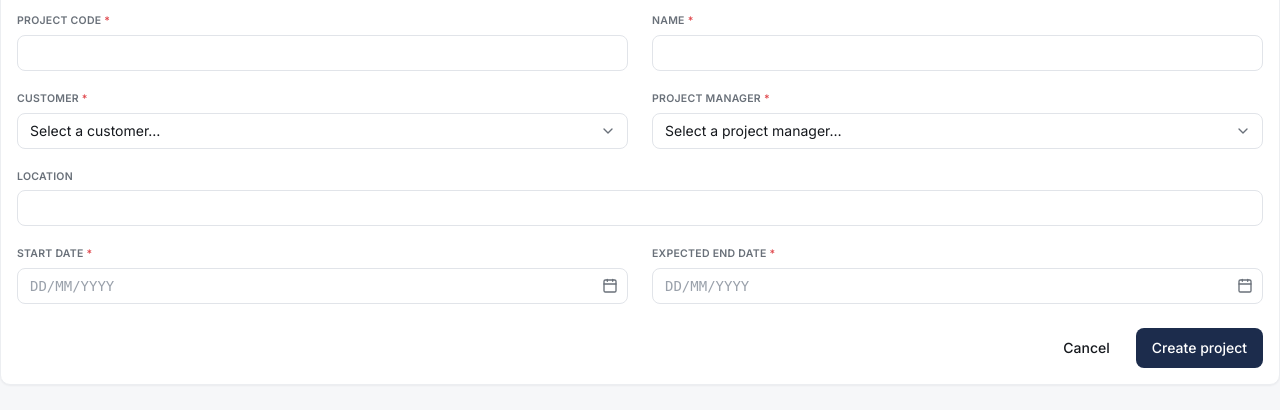
Test: ProjectOverviewForm — validation + mapping › requires fields + expected-end after start (FR-MAS-005)
Expected: the dropdown labelled "Customer *" is shown, [17,112,628,148]
Step 1. Type "P-002" into the field labelled "Project code *" → (322,53), box [17,35,628,71]
Step 2. Type "Tower B" into the field labelled "Name *" → (958,53), box [652,35,1263,71]
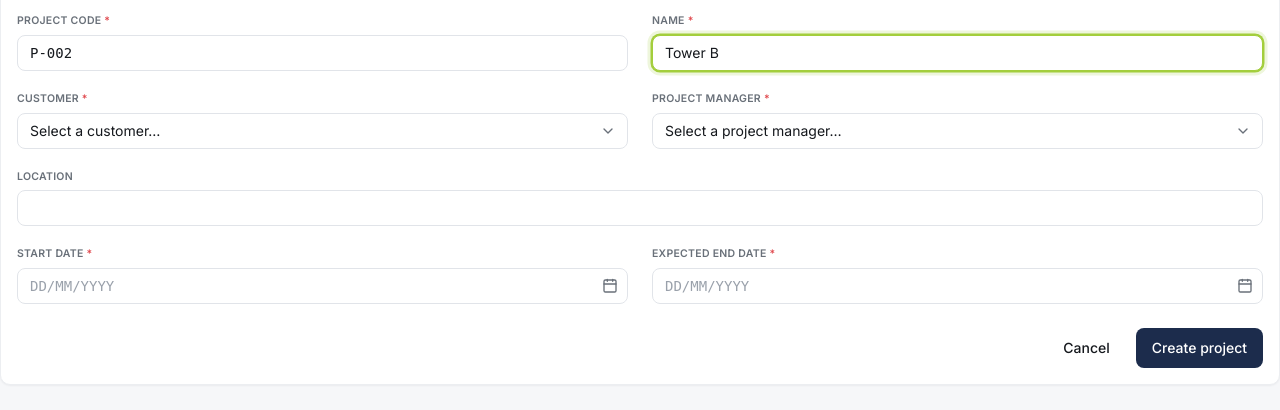
Step 3. Select "ACME" in the dropdown labelled "Customer *" → (322,130), box [17,112,628,148]
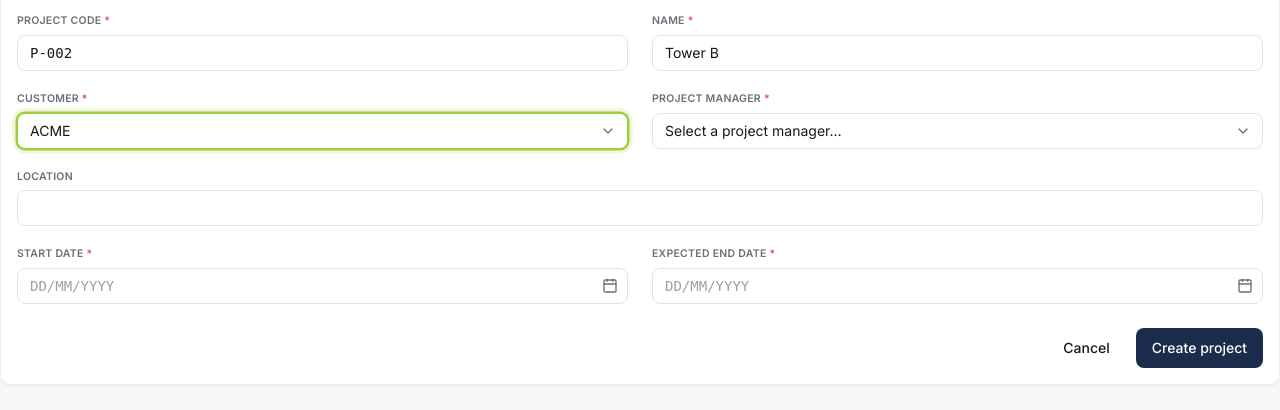
Step 4. Select "Rahim" in the dropdown labelled "Project manager *" → (958,130), box [652,112,1263,148]
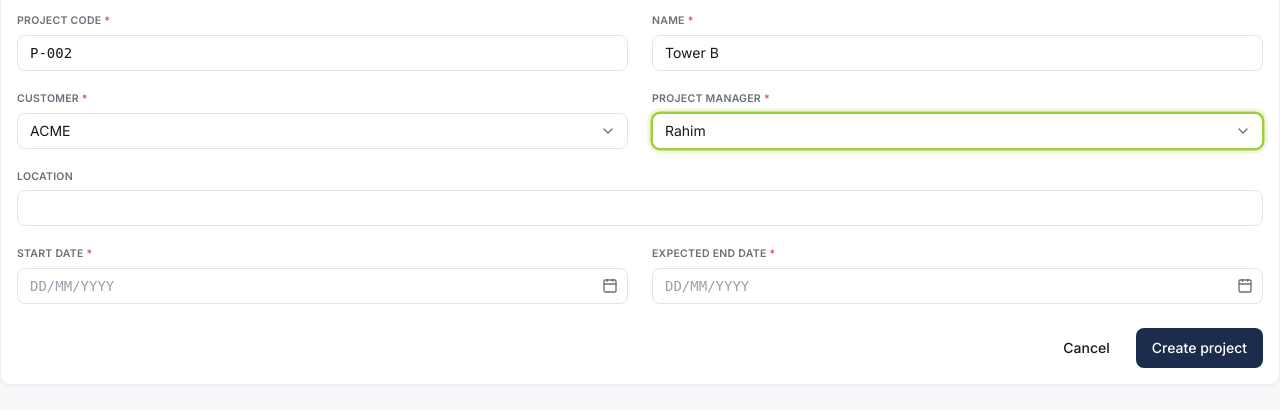
Step 5. Type "01/07/2026" into the field labelled "Start date *" → (322,286), box [17,268,628,304]
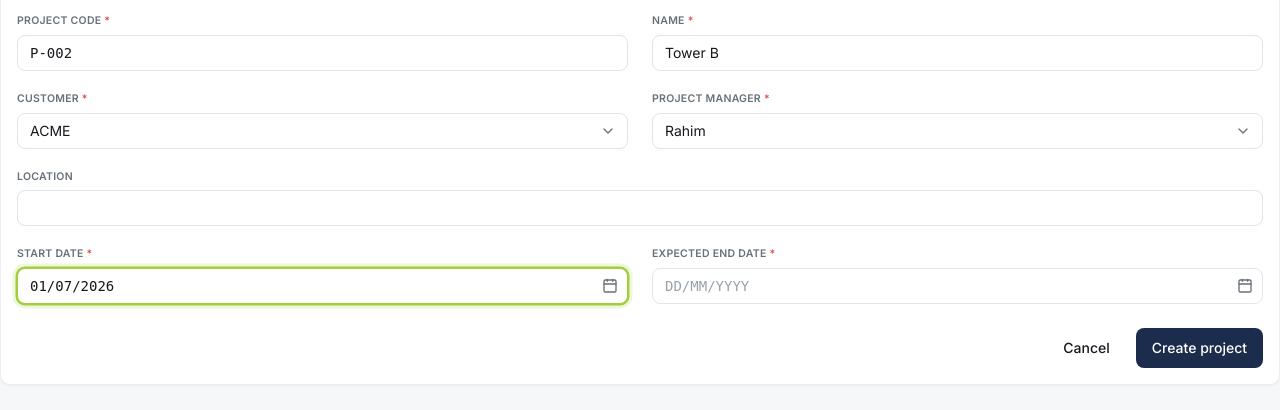
Step 6. Type "30/06/2026" into the field labelled "Expected end date *" → (958,286), box [652,268,1263,304]
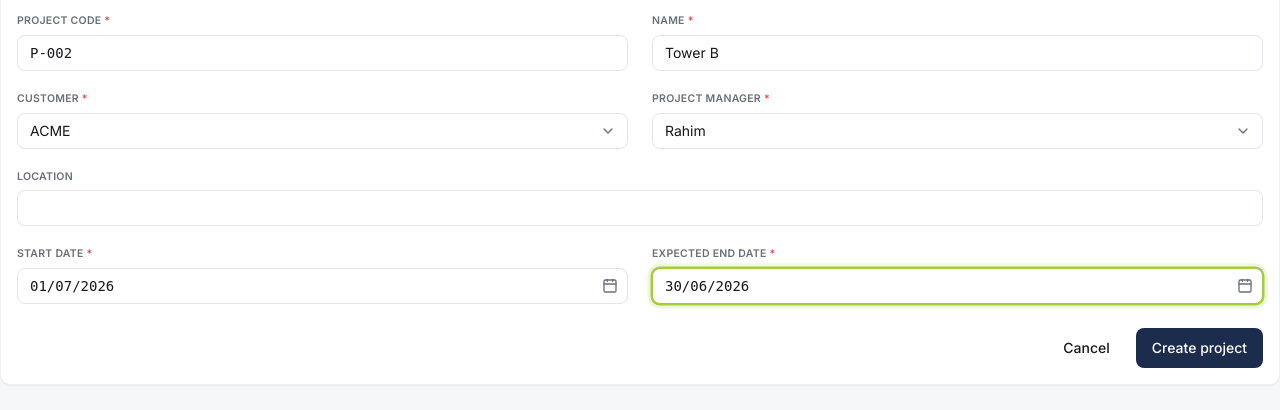
Step 7. Click the button with test id "project-save" → (1199,348), box [1136,328,1263,368]
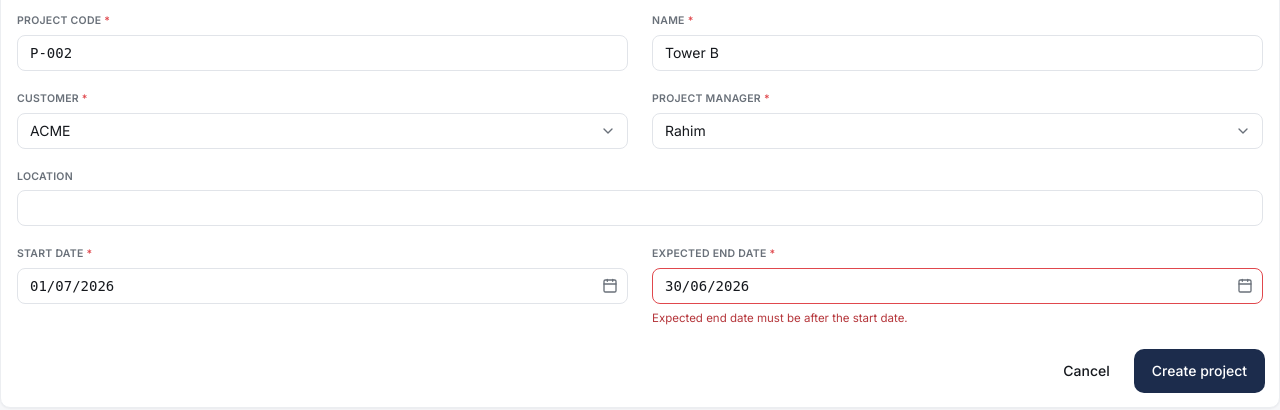
Expected: the text with test id "pj-end-error" reads "Expected end date must be after the start date.", [652,311,908,325]
